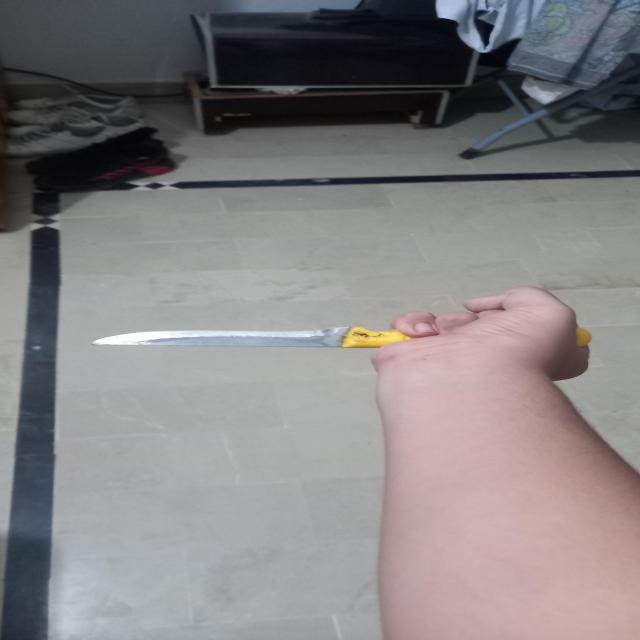weapon: (95, 328, 589, 347)
